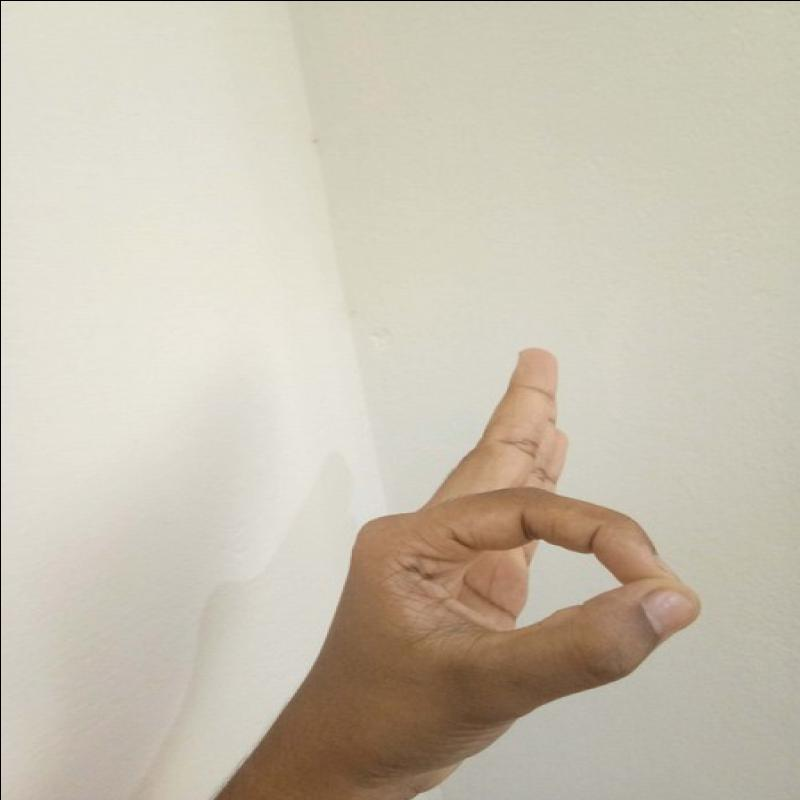Mudraakhyam: (258, 335, 707, 767)
